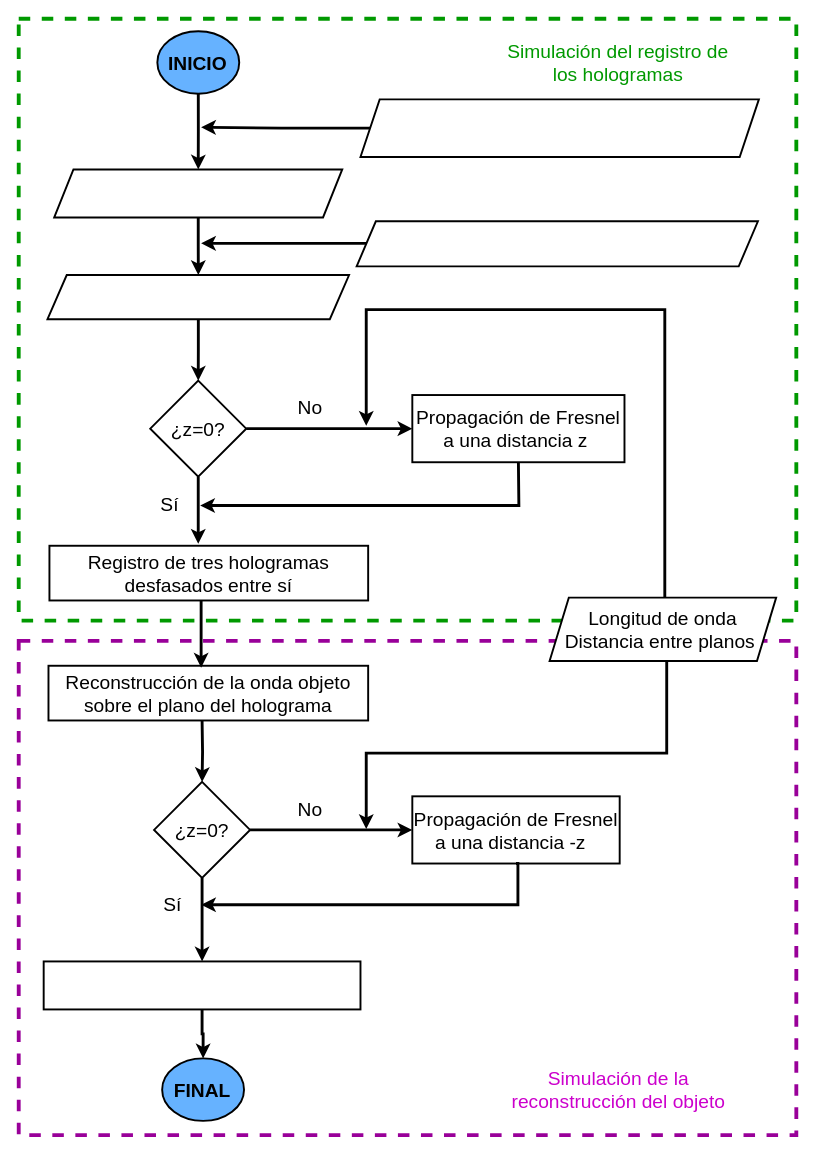
Some shapes in this 814 by 1153 pixel diagram are drawn without their labels. Each missing label, with the box of its shape:
Dimensiones y puntos de muestreo Distancia z del objeto hasta el holograma: (359, 98, 759, 157)
Retardos de fase del haz de referencia: (355, 220, 758, 267)
U (x,y,0) del objeto sintético: (42, 960, 361, 1010)
U O (x,y,0) del objeto sintético: (53, 168, 343, 218)
U R (x,y,0) del haz de referencia: (46, 274, 350, 320)
